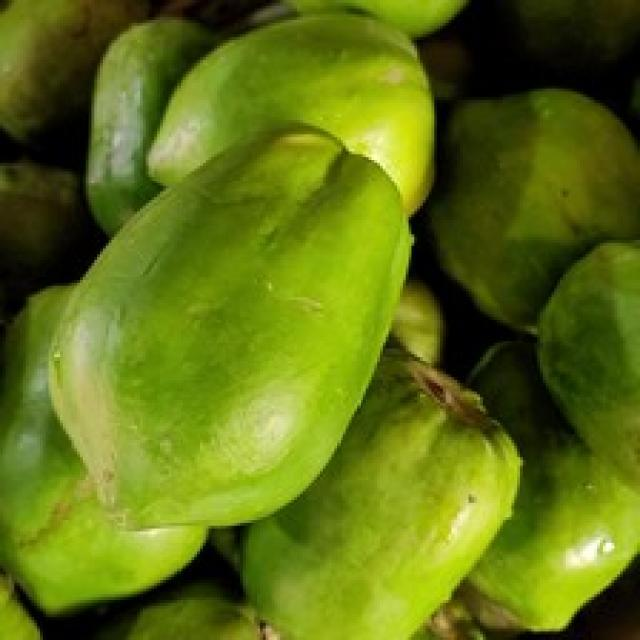Pepaya unrippen: (40, 125, 409, 539)
